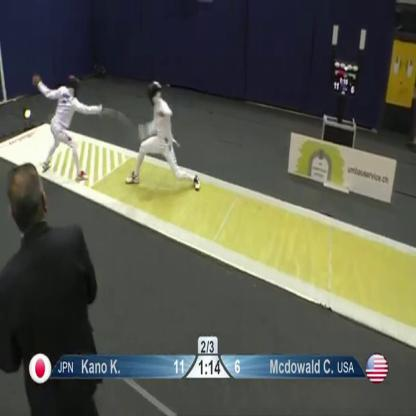fencer: (120, 77, 205, 196), (26, 64, 108, 183)
referee: (0, 161, 109, 415)
